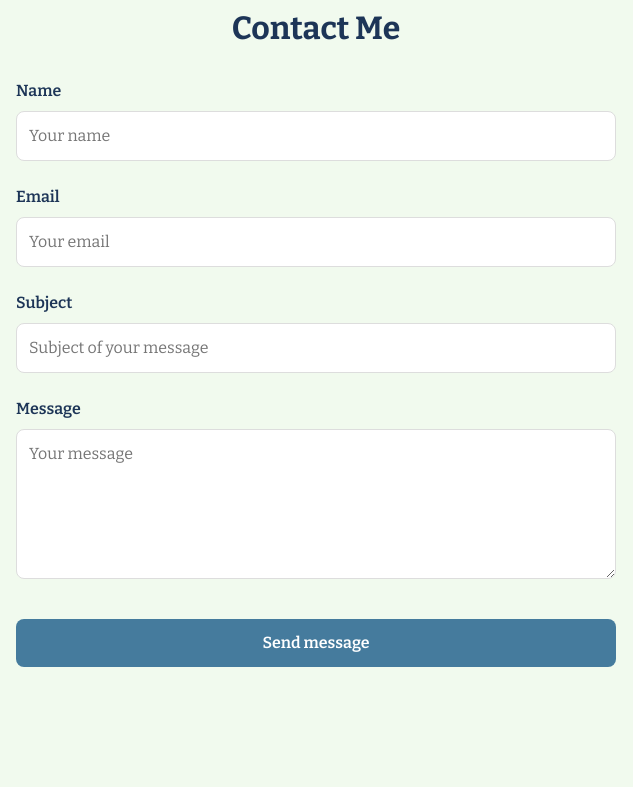
it: ContactForm › shows error message when API call fails
In the field labelled "Name": point(316, 136) [16,111,616,161], type "John Doe"
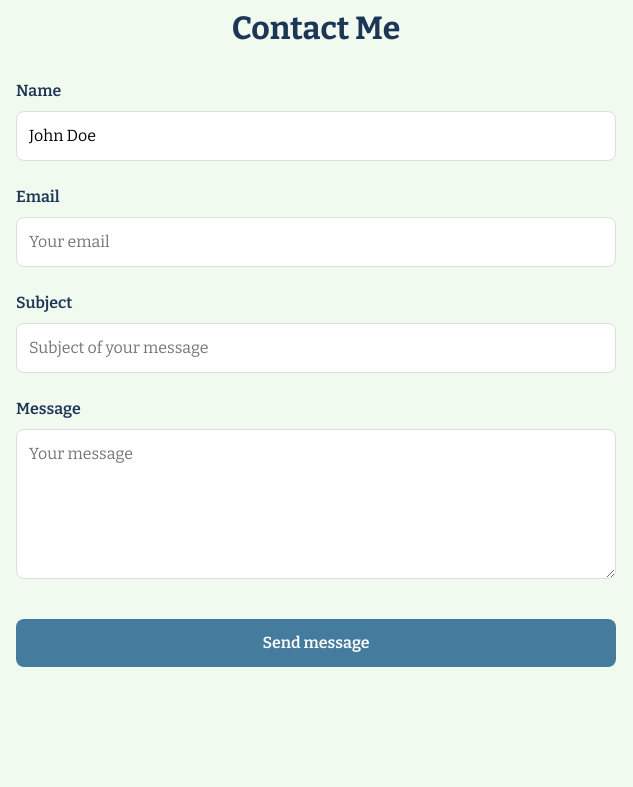
In the field labelled "Email": point(316, 242) [16,217,616,267], type "john@example.com"
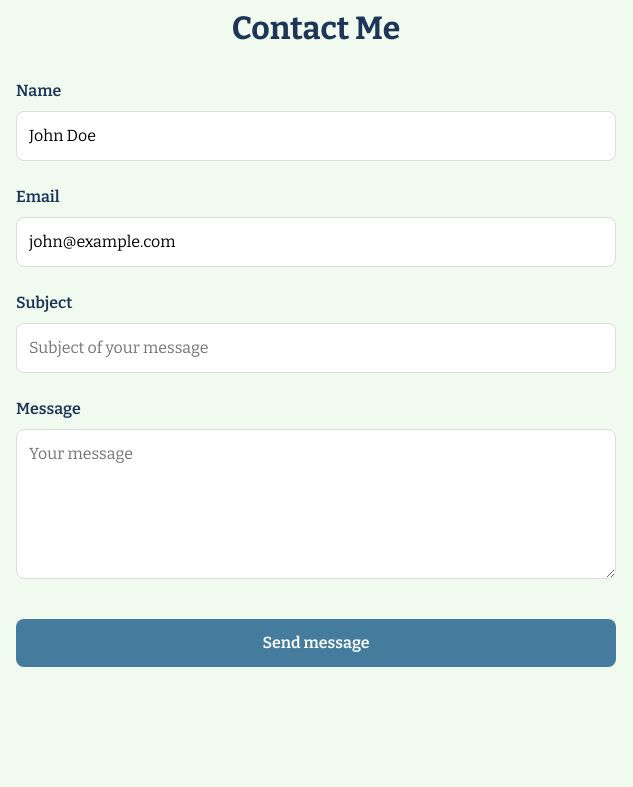
In the field labelled "Subject": point(316, 348) [16,323,616,373], type "Test Subject"
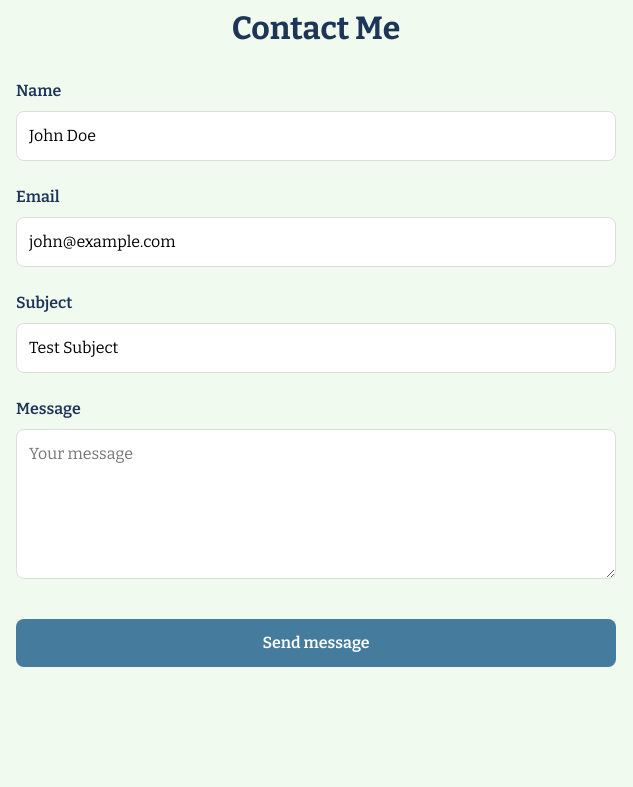
In the text box labelled "Message": point(316, 504) [16,429,616,579], type "This is a test message with enough characters"
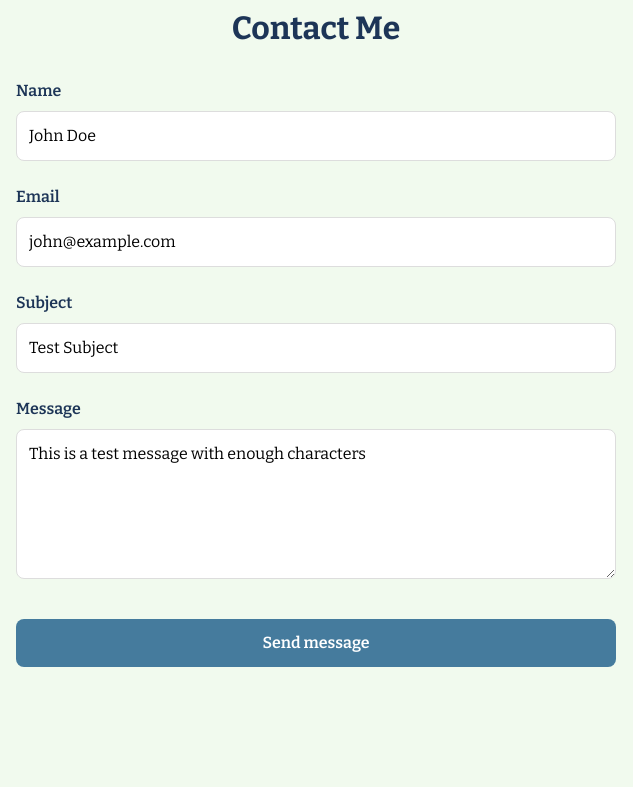
Submit the form "Name Email Subject Message Send message"
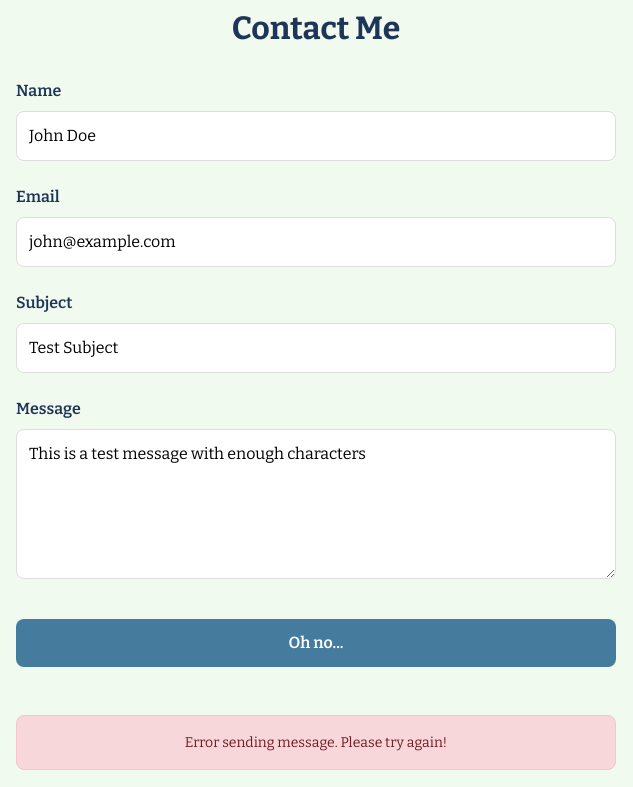
Check: the text "Error sending message. Please try again!" is shown, box [16,715,616,770]
